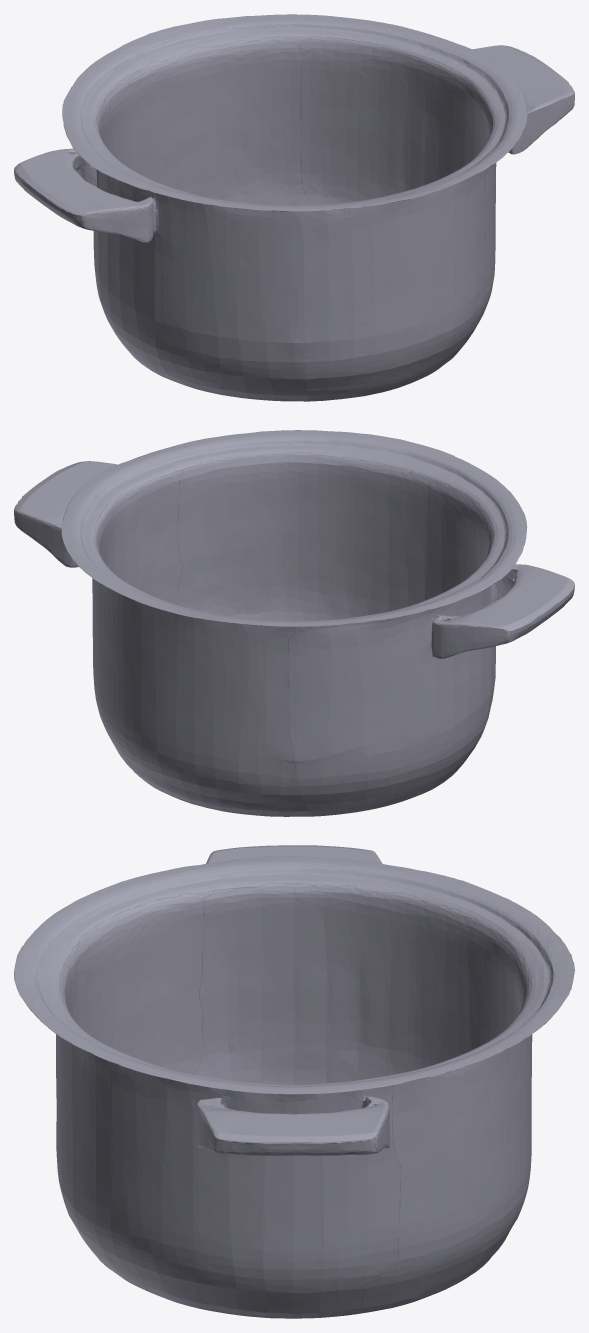
The picture shows the model from 3 angles, top to bottom: view 1: azimuth 30°, elevation 25°; view 2: azimuth 150°, elevation 25°; view 3: azimuth 270°, elevation 25°; orthographic projection. The views are drawn at different scales.
Visible parts, largest first — view 1: textured; view 2: textured; view 3: textured.
Part boxes in pixels (box(x1,y1,x2,y2)): textured: box(14, 14, 574, 401); textured: box(14, 430, 574, 816); textured: box(14, 845, 574, 1318).
Bounding box in the file's own units: 0.3999 × 0.1621 × 0.3184.
Materials: 1 (1 with a texture image).
